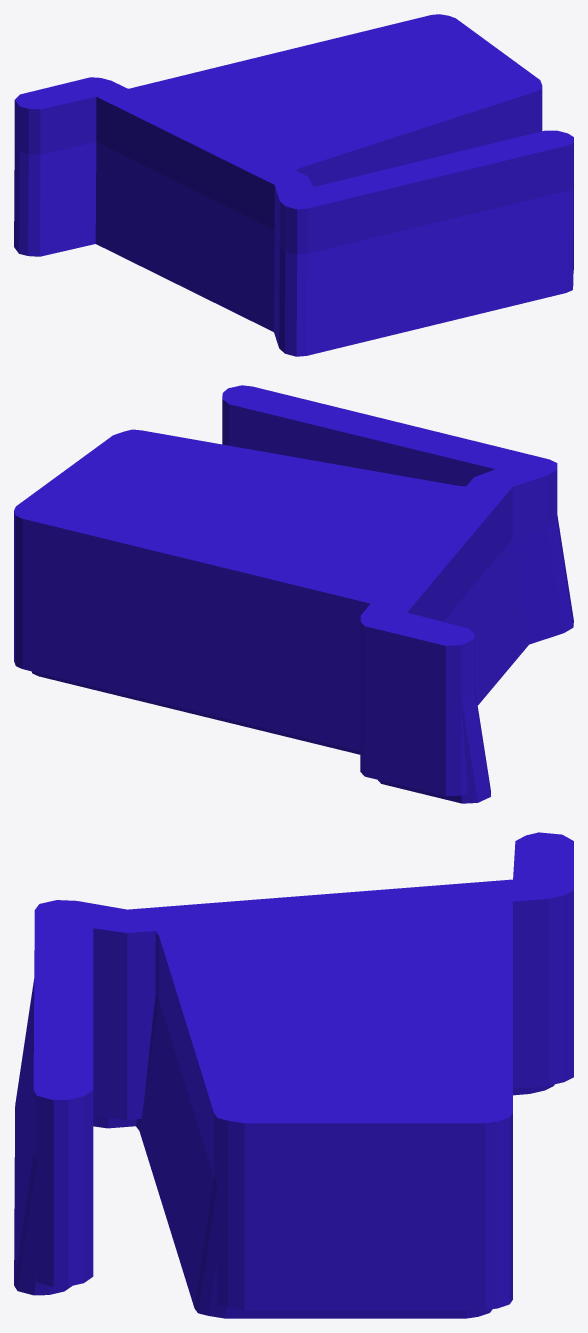
Rendered from cart.glb.
The picture shows the model from 3 angles, top to bottom: view 1: azimuth 30°, elevation 25°; view 2: azimuth 150°, elevation 25°; view 3: azimuth 270°, elevation 25°; orthographic projection. The views are drawn at different scales.
Visible parts, largest first — view 1: Cube; view 2: Cube; view 3: Cube.
Part boxes in pixels (x1,y1,x2,y2): Cube: (14,14,573,356); Cube: (14,385,573,803); Cube: (14,832,573,1318).
Bounding box in the file's own units: 3.19 × 1.01 × 2.55.
